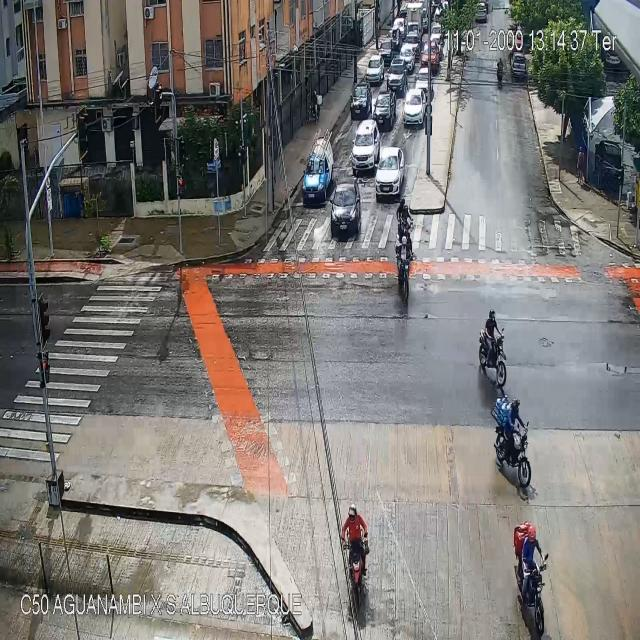Car: (301, 144, 330, 208), (331, 180, 361, 232), (375, 148, 405, 200), (352, 119, 379, 173), (402, 88, 427, 127), (373, 91, 395, 125), (350, 84, 369, 117), (364, 53, 384, 83), (388, 61, 405, 90), (421, 41, 438, 70), (512, 50, 526, 80), (399, 44, 415, 70), (416, 68, 430, 94), (392, 17, 408, 39), (379, 39, 392, 64), (387, 28, 401, 50), (475, 1, 487, 22), (431, 22, 443, 41)
Motorcycle: (492, 396, 534, 492), (514, 522, 547, 639), (340, 502, 371, 608), (478, 308, 508, 388), (395, 234, 412, 304), (396, 199, 412, 253), (307, 88, 322, 126), (496, 57, 504, 89)
Truck: (406, 3, 424, 37)
